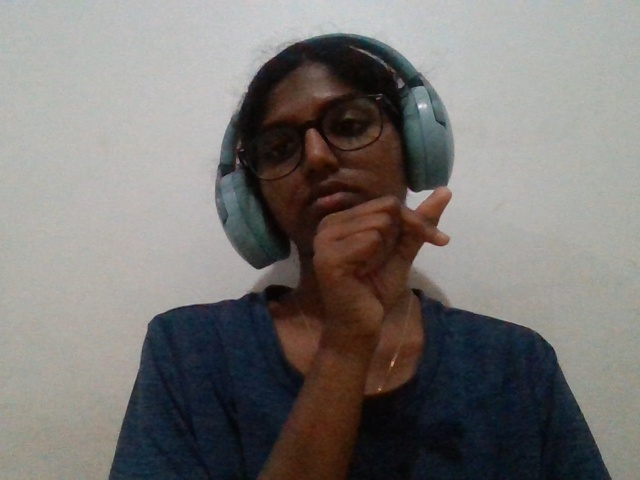G: (262, 169, 467, 430)
